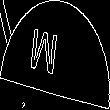M_S: (39, 26, 71, 84)
